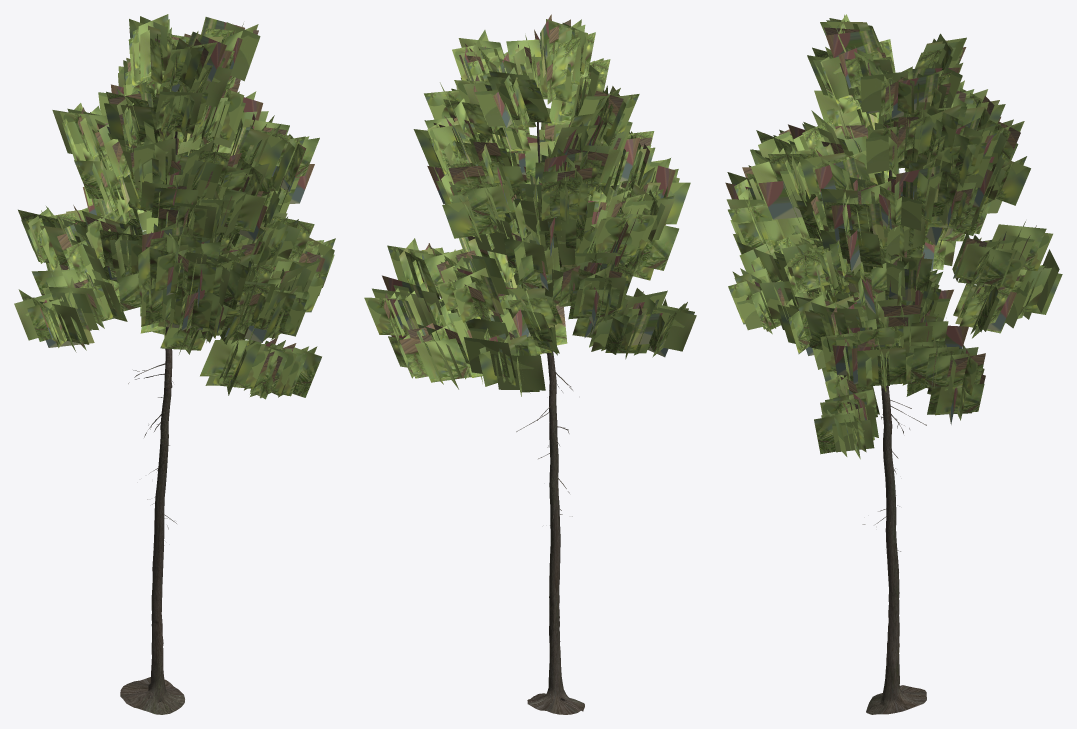
File: fir-tree.glb
The picture shows the model from 3 angles, left to right: view 1: azimuth 30°, elevation 25°; view 2: azimuth 150°, elevation 25°; view 3: azimuth 270°, elevation 25°; orthographic projection. The views are drawn at different scales.
Parts seen in each view (by area): view 1: fir; view 2: fir; view 3: fir.
Part boxes in pixels (box(x1,y1,x2,y2)): fir: box(14, 14, 335, 714); fir: box(364, 14, 696, 714); fir: box(725, 14, 1062, 714).
Size of the model in its own units: 7.34 by 14.84 by 6.54.
Materials: 2 (2 with a texture image).
